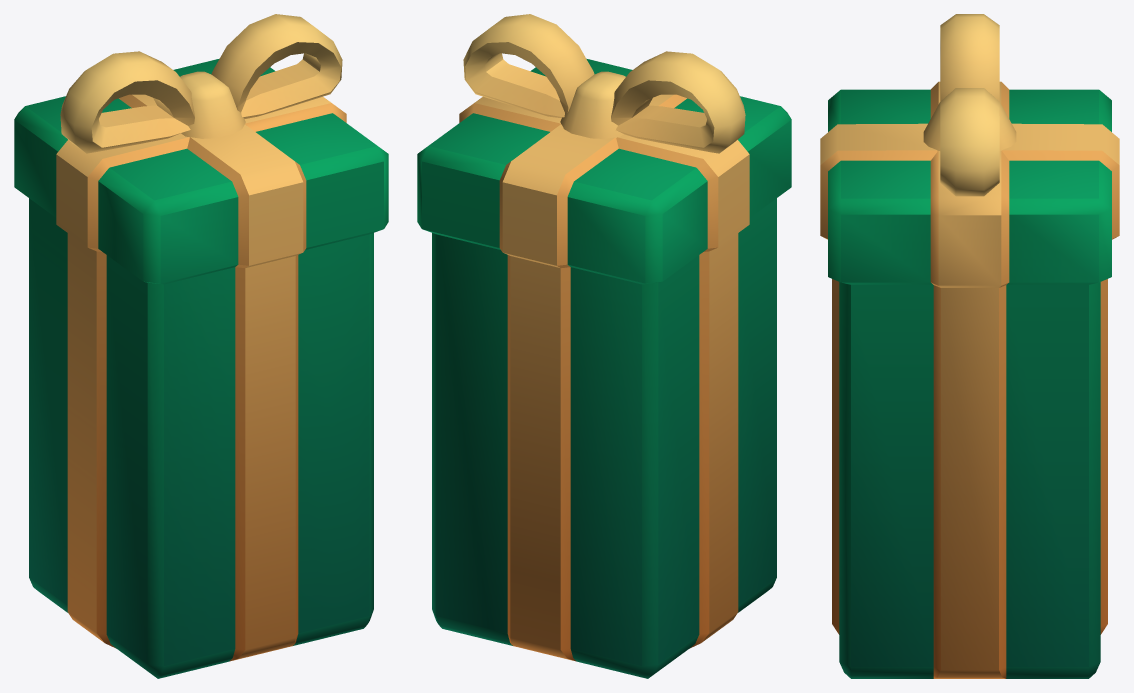
Rendered from present_B_green.fbx.
3 views of the same model, side by side, from view 1: azimuth 30°, elevation 25°; view 2: azimuth 150°, elevation 25°; view 3: azimuth 270°, elevation 25° (orthographic).
Parts seen in each view (by area): view 1: present_B_green; view 2: present_B_green; view 3: present_B_green.
Part boxes in pixels (x1,y1,x2,y2): present_B_green: (14, 14, 388, 678); present_B_green: (417, 14, 791, 678); present_B_green: (820, 14, 1119, 678).
Size of the model in its own units: 52.15 by 106 by 50.38.
